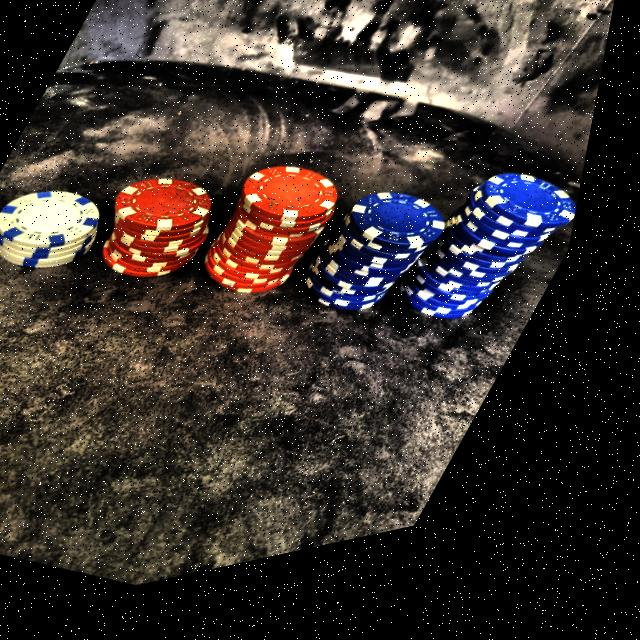Chip: (392, 153, 602, 386), (185, 132, 383, 347), (294, 167, 485, 370), (82, 145, 262, 322), (0, 143, 149, 321)
